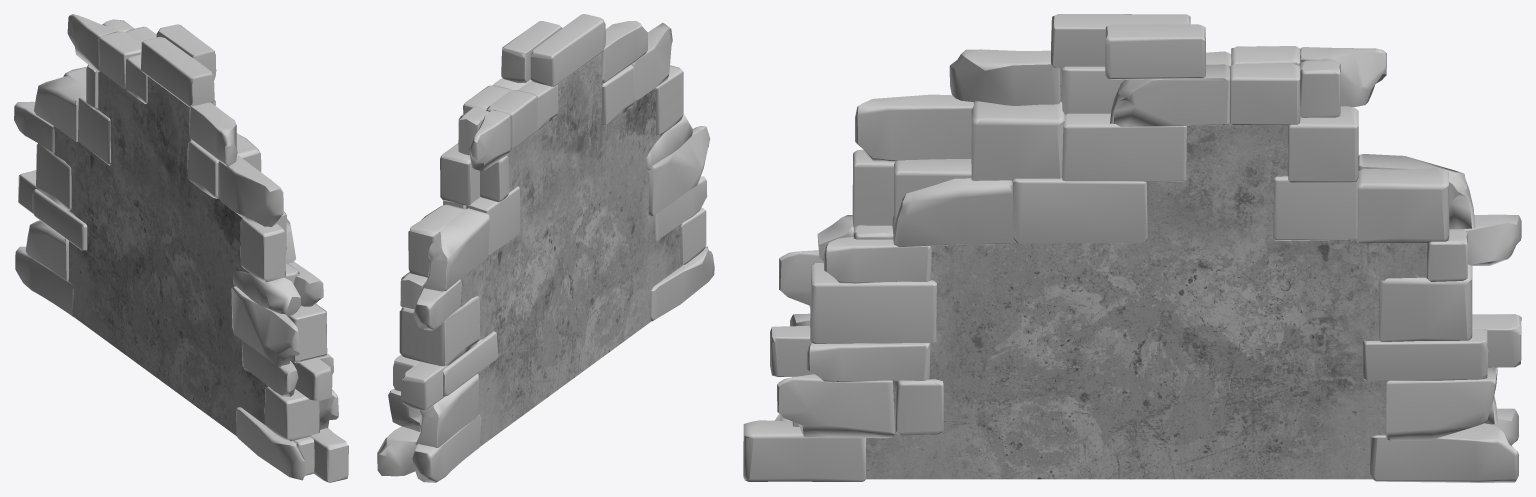
Rendered from SM_ThinWall_8x8_Broken_01b.fbx.
The picture shows the model from 3 angles, left to right: view 1: azimuth 30°, elevation 25°; view 2: azimuth 150°, elevation 25°; view 3: azimuth 270°, elevation 25°; orthographic projection. The views are drawn at different scales.
Parts seen in each view (by area): view 1: SM_ThinWall_8x8_Broken_01b_LOD0; view 2: SM_ThinWall_8x8_Broken_01b_LOD0; view 3: SM_ThinWall_8x8_Broken_01b_LOD0.
Part boxes in pixels (x1,y1,x2,y2): SM_ThinWall_8x8_Broken_01b_LOD0: [14, 14, 348, 482]; SM_ThinWall_8x8_Broken_01b_LOD0: [377, 14, 714, 482]; SM_ThinWall_8x8_Broken_01b_LOD0: [743, 14, 1521, 482].
Size of the model in its own units: 88.28 by 705 by 445.
